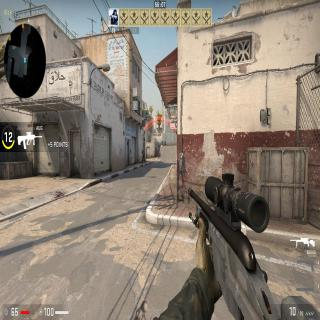T-Body: (142, 148, 146, 165)
T-Head: (143, 149, 144, 152)
